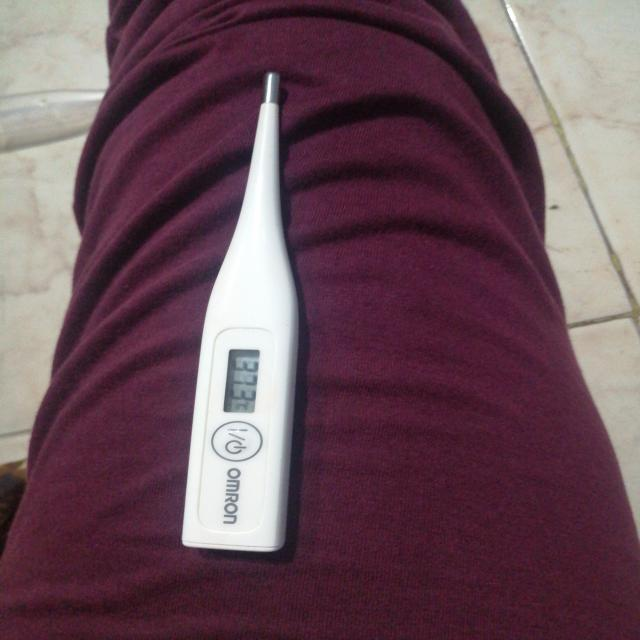display: (222, 349, 260, 413)
frame: (230, 358, 258, 402)
gauge: (180, 70, 300, 556)
